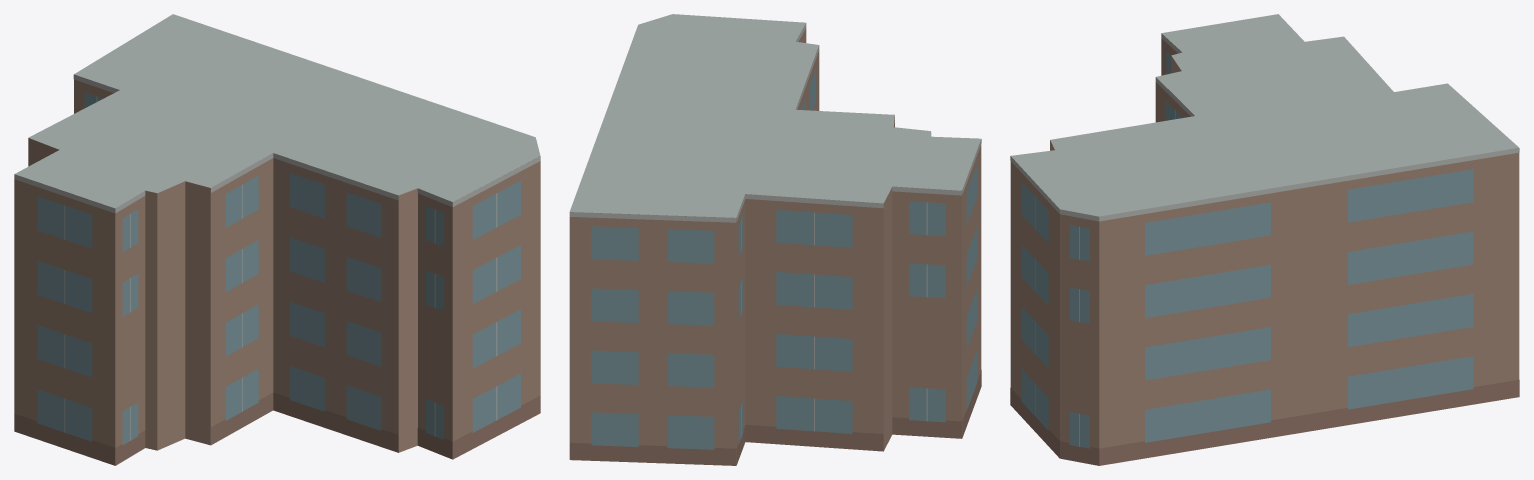
Rendered from survey-upis-32838218.glb.
The picture shows the model from 3 angles, left to right: view 1: azimuth 30°, elevation 25°; view 2: azimuth 150°, elevation 25°; view 3: azimuth 270°, elevation 25°; orthographic projection. The views are drawn at different scales.
Parts seen in each view (by area): view 1: survey-upis-32838218.tmp; view 2: survey-upis-32838218.tmp; view 3: survey-upis-32838218.tmp.
Boxes of the visible parts, bbox=[...] form: survey-upis-32838218.tmp: bbox=[14, 14, 540, 465]; survey-upis-32838218.tmp: bbox=[569, 14, 981, 465]; survey-upis-32838218.tmp: bbox=[1010, 14, 1519, 465].
Bounding box in the file's own units: 21.8 × 12.5 × 23.14.
